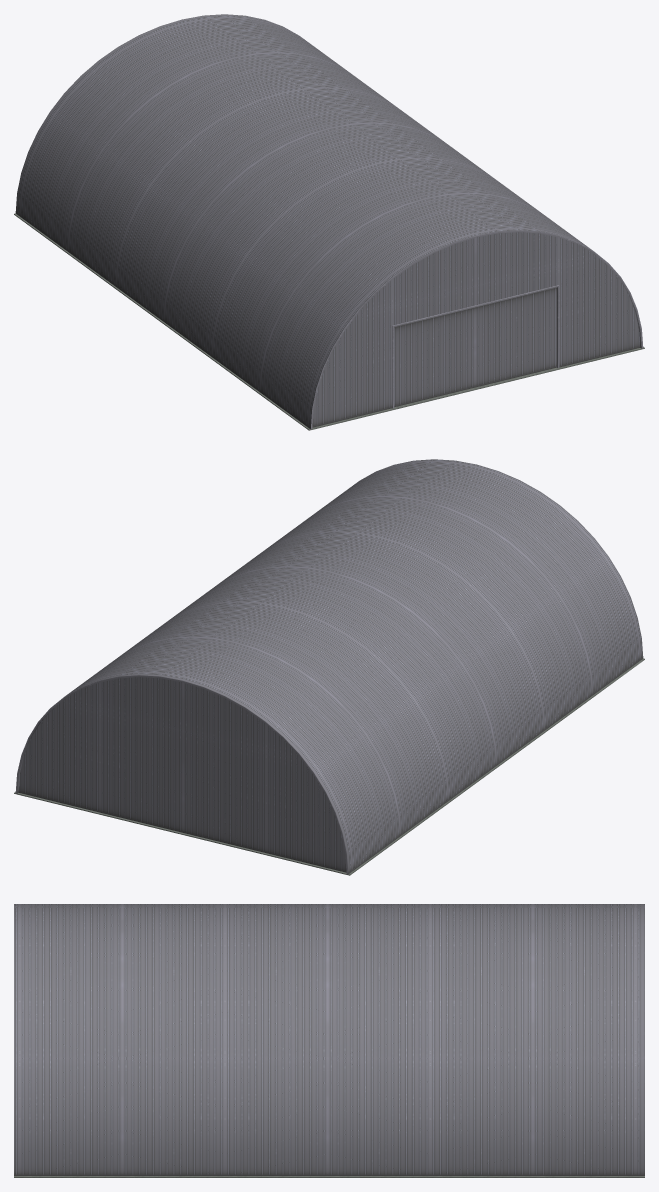
File: Warehouse02_5.FBX
The picture shows the model from 3 angles, top to bottom: view 1: azimuth 30°, elevation 25°; view 2: azimuth 150°, elevation 25°; view 3: azimuth 270°, elevation 25°; orthographic projection. The views are drawn at different scales.
Parts seen in each view (by area): view 1: Warehouse02_5; view 2: Warehouse02_5; view 3: Warehouse02_5.
Boxes of the visible parts, bbox=[...] form: Warehouse02_5: bbox=[14, 14, 644, 430]; Warehouse02_5: bbox=[14, 459, 644, 875]; Warehouse02_5: bbox=[14, 904, 644, 1177].
Size of what is drawn, in the model's own units: 20.2 by 8.86 by 30.74.
